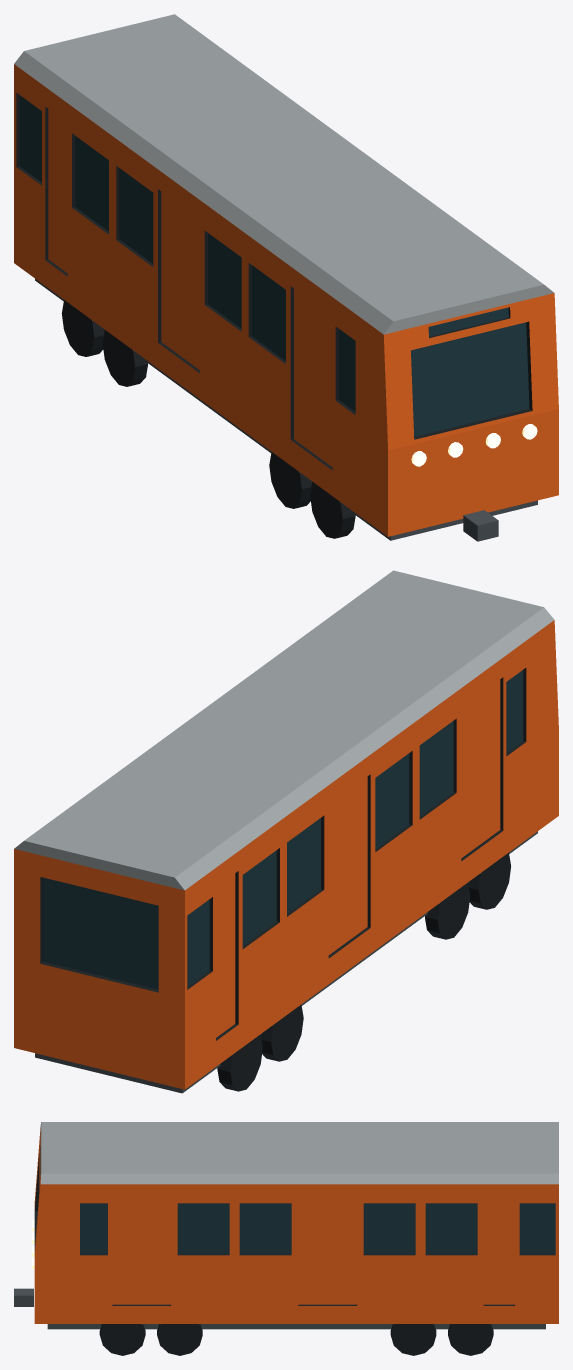
File: maqueta_metro.fbx
The picture shows the model from 3 angles, top to bottom: view 1: azimuth 30°, elevation 25°; view 2: azimuth 150°, elevation 25°; view 3: azimuth 270°, elevation 25°; orthographic projection. The views are drawn at different scales.
Visible parts, largest first — view 1: maqueta_metro; view 2: maqueta_metro; view 3: maqueta_metro.
Part boxes in pixels (x1,y1,x2,y2): maqueta_metro: [14, 14, 558, 541]; maqueta_metro: [14, 570, 558, 1093]; maqueta_metro: [14, 1122, 558, 1355].
Bounding box in the file's own units: 0.203 × 0.2905 × 0.8.
